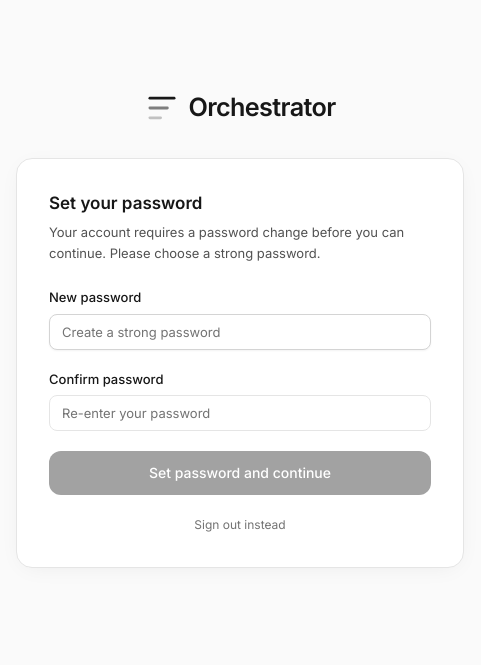
Test: FirstPasswordChangePage — password rules › shows password rules when typing
The image size is (481, 665).
Step 1. Type "A" into the password field labelled "New password" → (240, 332), box [49, 314, 431, 350]
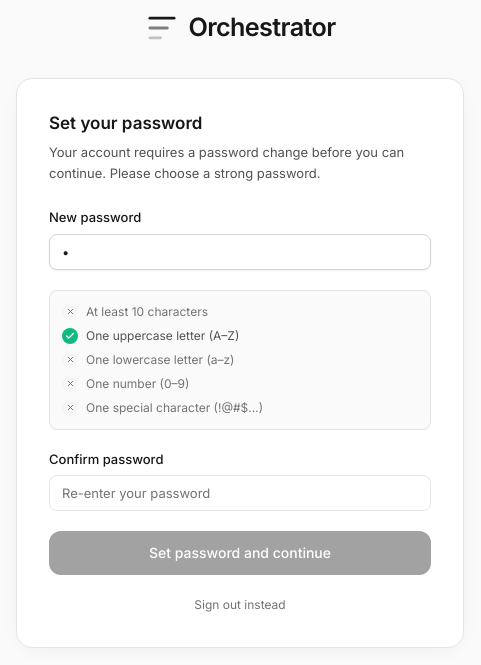
Now the text "At least 10 characters" is shown, box [86, 303, 208, 321]
Now the text "One uppercase letter (A–Z)" is shown, box [86, 327, 239, 345]
Now the text "One lowercase letter (a–z)" is shown, box [86, 351, 234, 369]
